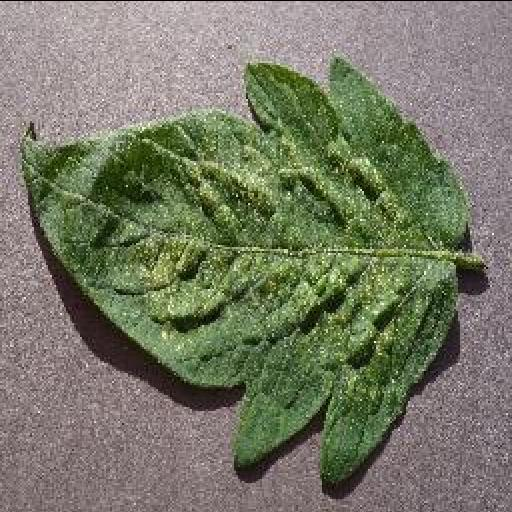disease_tomato: (21, 57, 467, 491)
